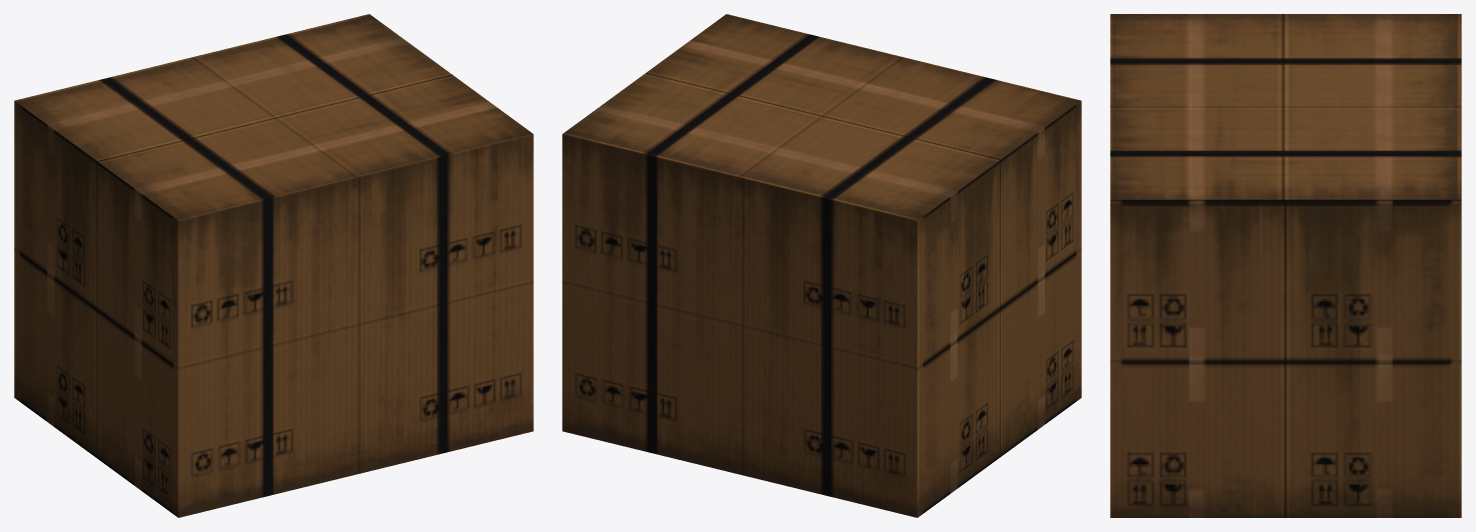
Rendered from Card_Box_A.fbx.
The picture shows the model from 3 angles, left to right: view 1: azimuth 30°, elevation 25°; view 2: azimuth 150°, elevation 25°; view 3: azimuth 270°, elevation 25°; orthographic projection. The views are drawn at different scales.
Visible parts, largest first — view 1: Card_Box_A; view 2: Card_Box_A; view 3: Card_Box_A.
Boxes of the visible parts, x1,y1,x2,y2 form: Card_Box_A: (14,14,533,517); Card_Box_A: (562,14,1081,517); Card_Box_A: (1110,14,1461,517).
Bounding box in the file's own units: 305 × 244 × 244.
1 material, 1 textured.
